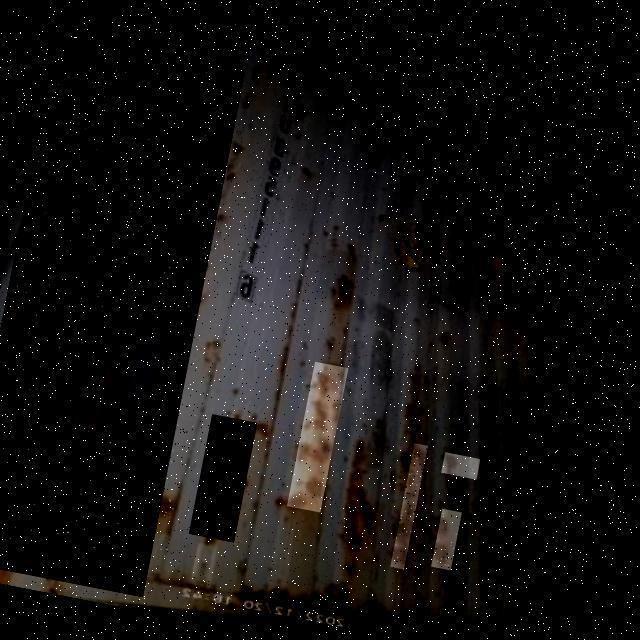rust: (1, 1, 257, 569), (130, 386, 201, 560), (286, 363, 349, 514), (190, 416, 258, 544), (391, 445, 429, 571), (432, 510, 463, 572), (442, 453, 481, 481)
